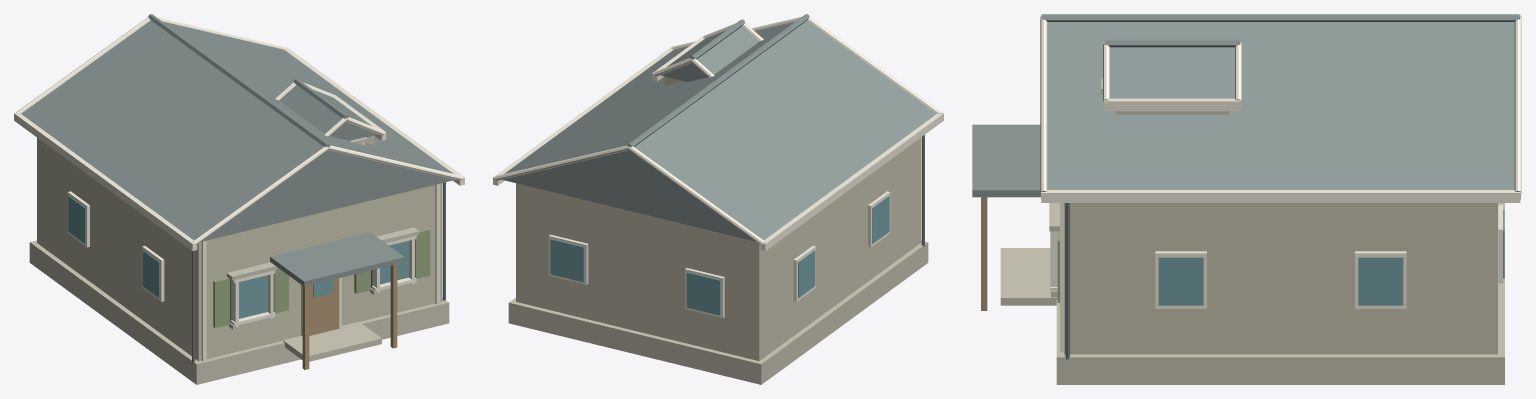
3 views of the same model, side by side, from view 1: azimuth 30°, elevation 25°; view 2: azimuth 150°, elevation 25°; view 3: azimuth 270°, elevation 25° (orthographic). The views are drawn at different scales.
Size of the model in its own units: 8.96 by 6.77 by 11.64.
